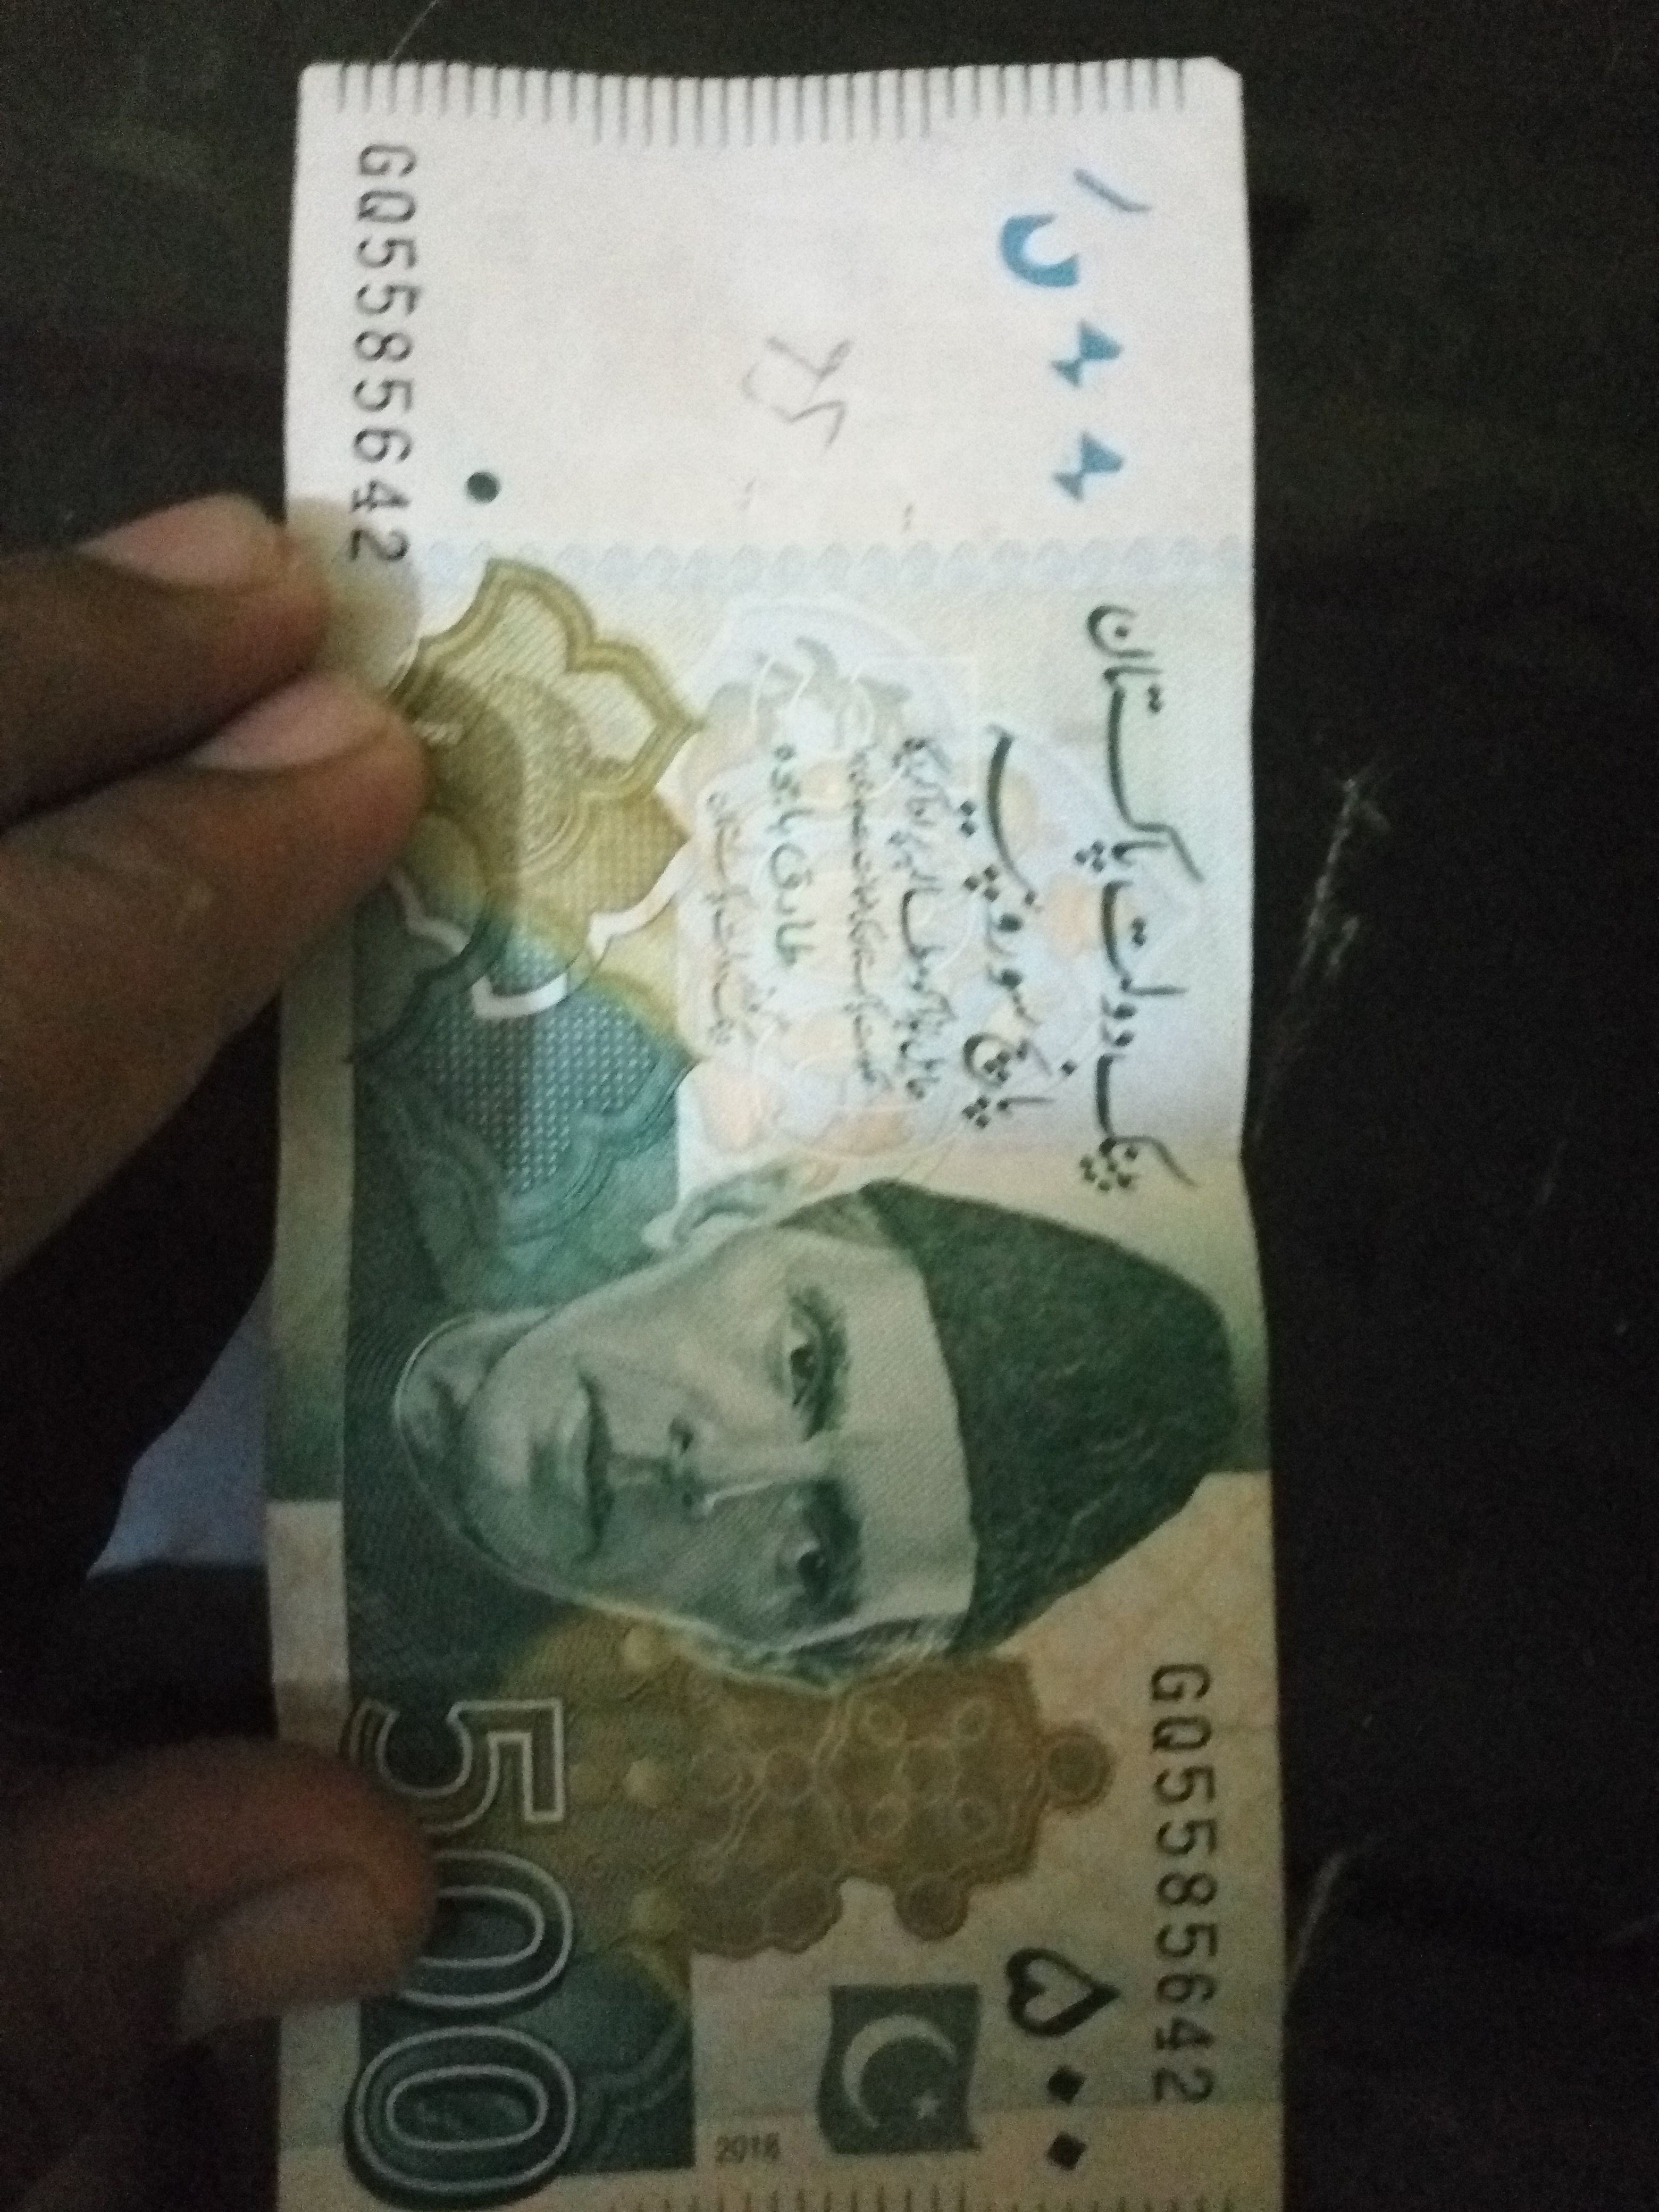500 rupee: (246, 66, 1300, 2207)
